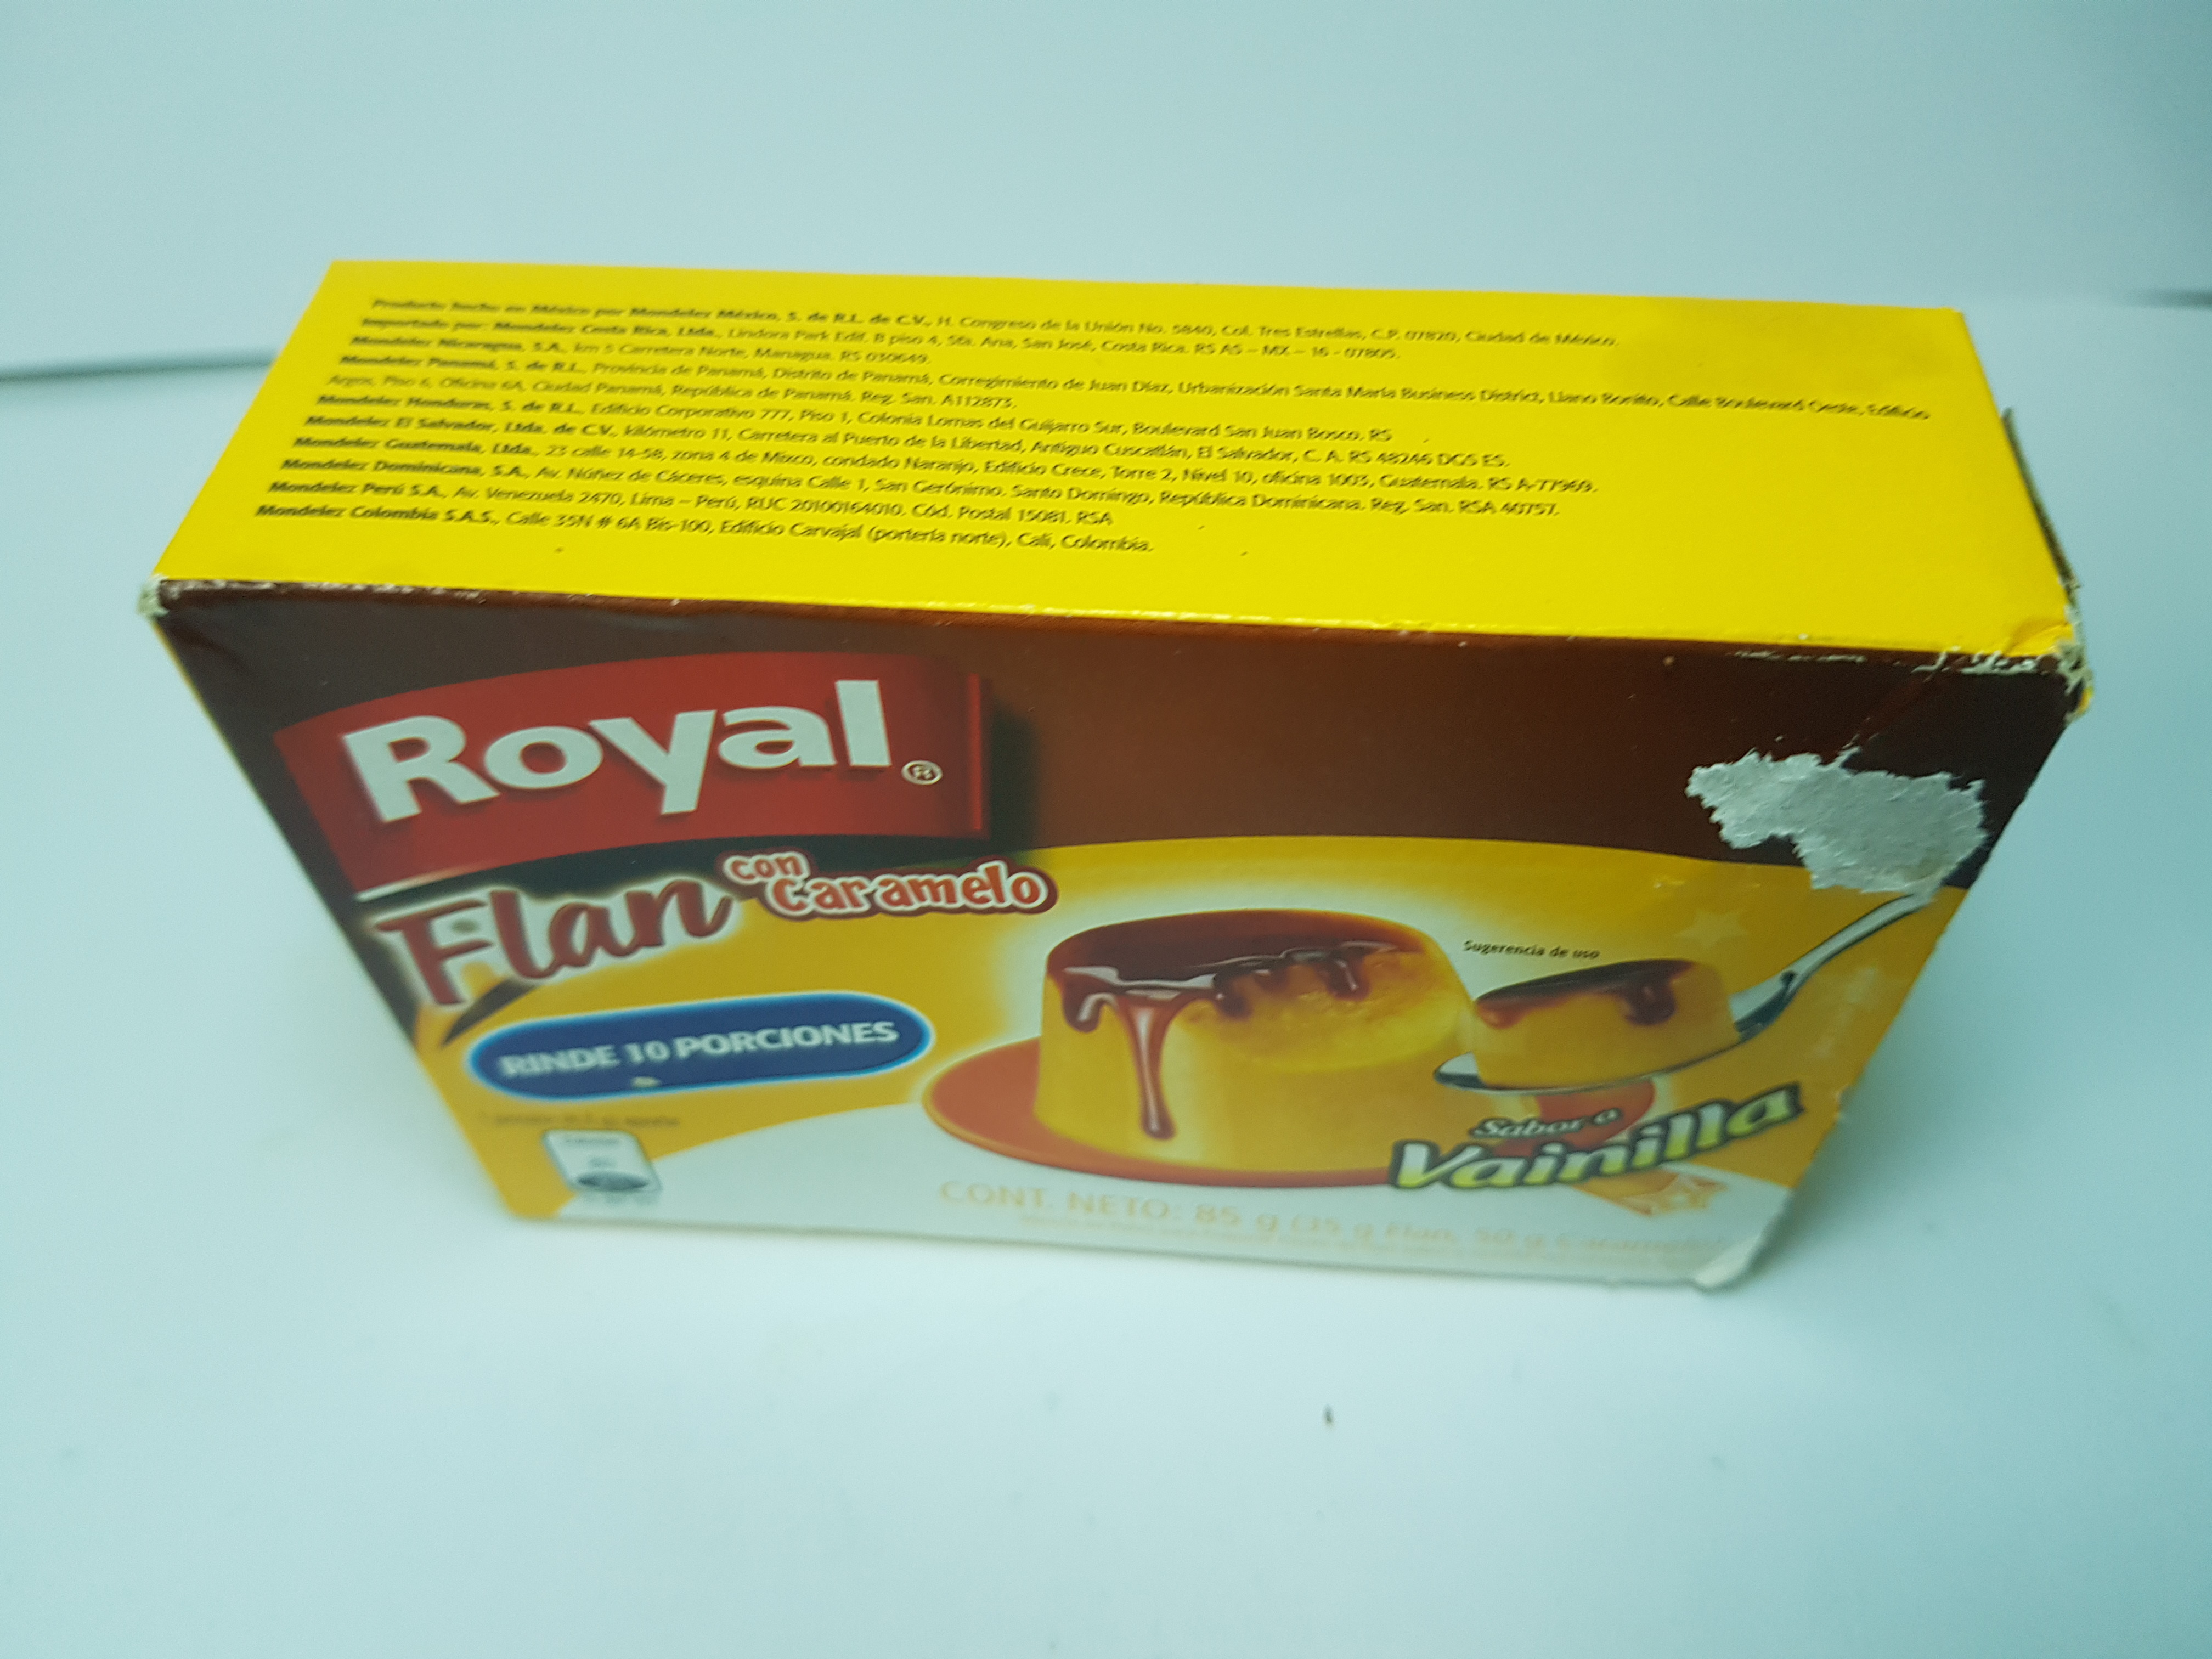flan: (138, 227, 2071, 1302)
